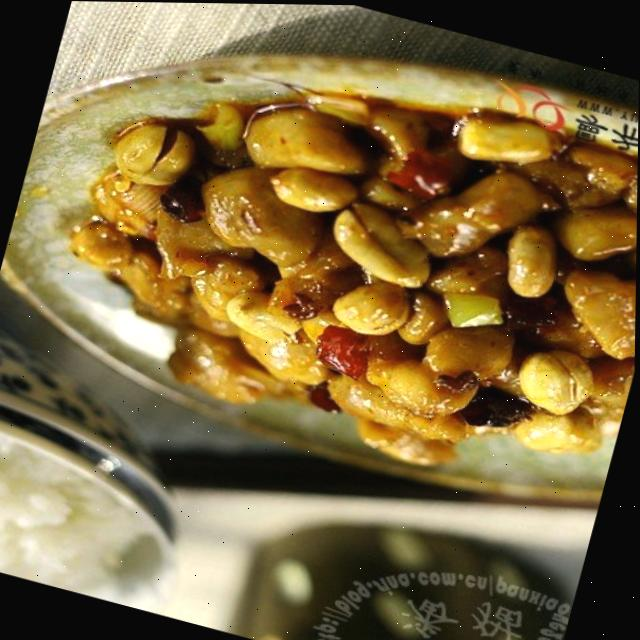鸡肉料理 含炸鸡: (31, 1, 640, 543)
